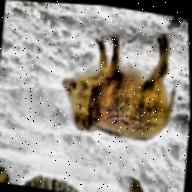boar: (45, 22, 189, 153)
